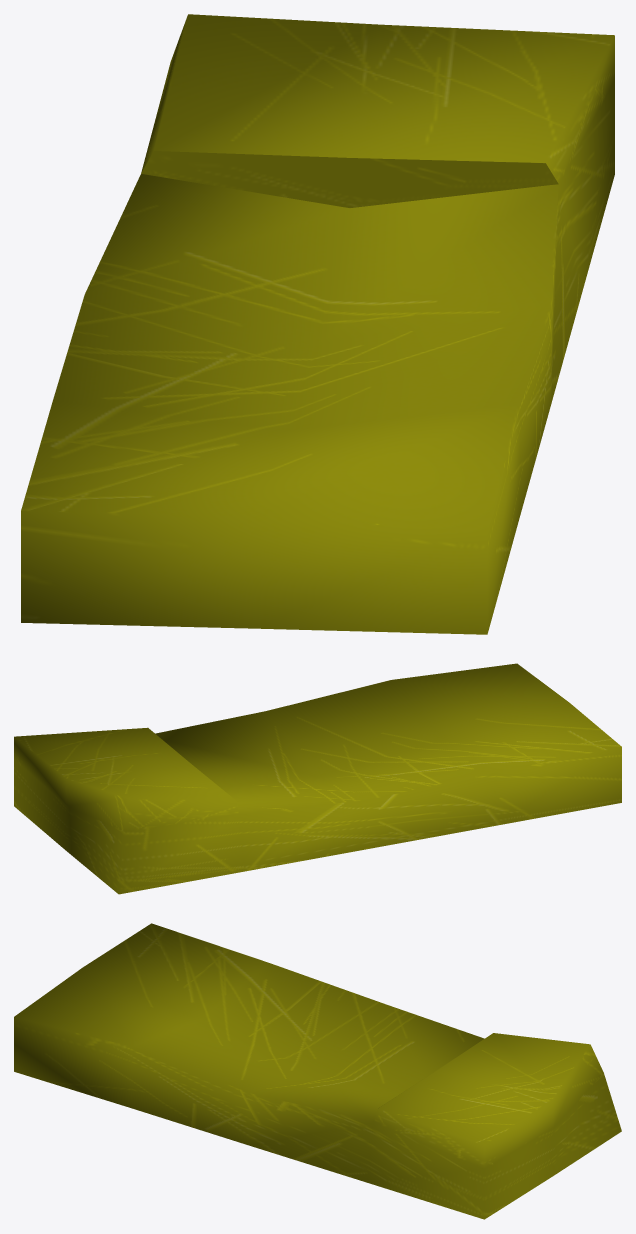
File: CamaDriplessNew2.fbx
3 views of the same model, one above another, from view 1: azimuth 30°, elevation 25°; view 2: azimuth 150°, elevation 25°; view 3: azimuth 270°, elevation 25° (orthographic). The views are drawn at different scales.
Parts seen in each view (by area): view 1: Bake; view 2: Bake; view 3: Bake.
Part boxes in pixels (bbox=[...]): Bake: bbox=[21, 14, 614, 634]; Bake: bbox=[14, 663, 621, 894]; Bake: bbox=[14, 923, 621, 1219].
Size of the model in its own units: 42.34 by 7.55 by 46.02.
